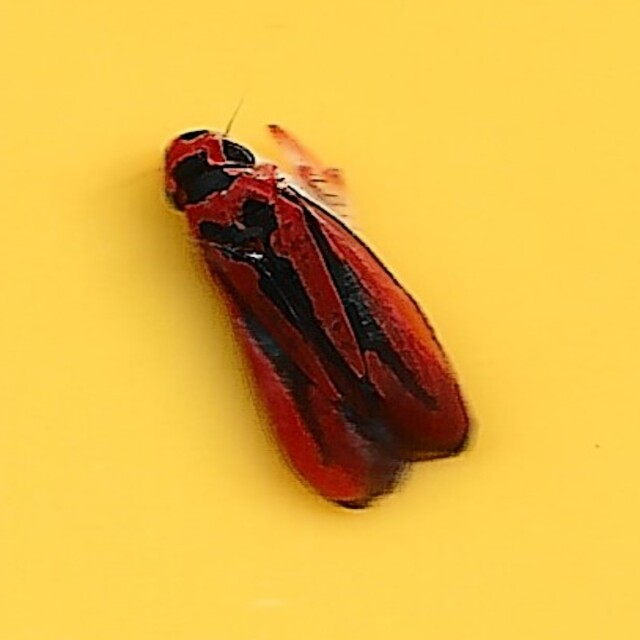Hemiptera: (157, 124, 483, 516)
